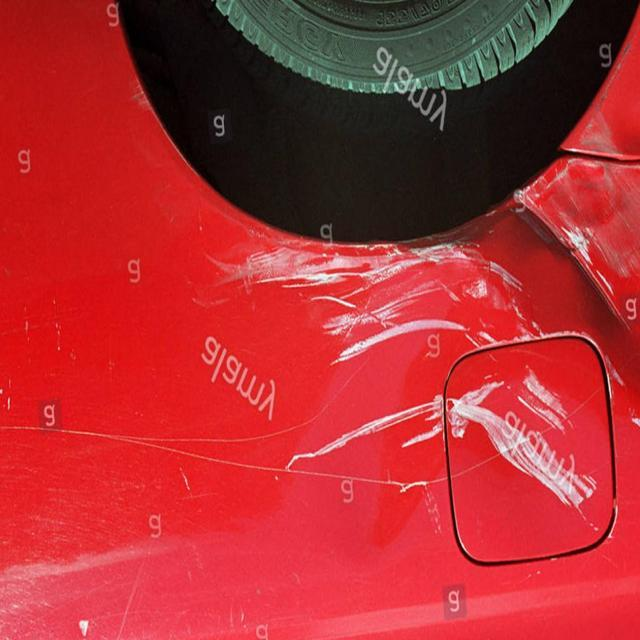scratch: (220, 130, 634, 604)
